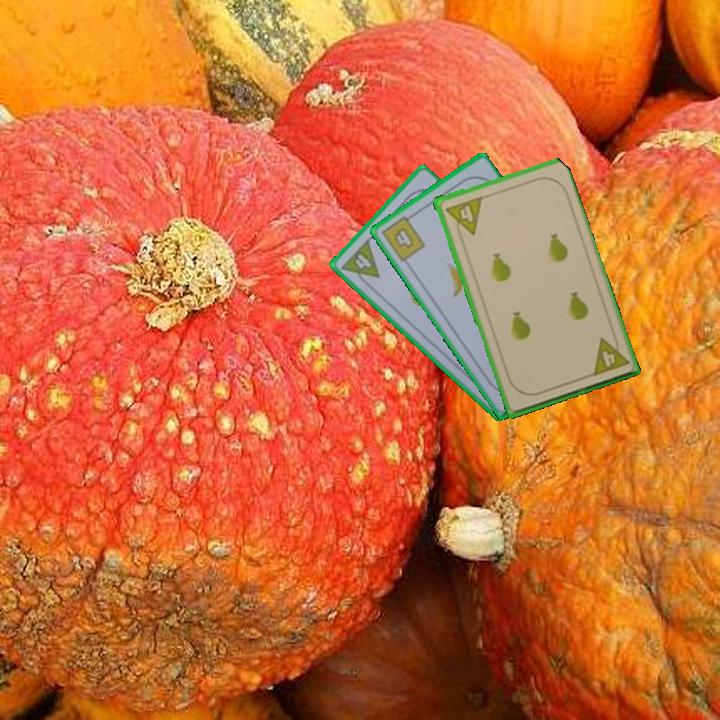4b: (378, 210, 428, 265)
4p: (338, 236, 382, 291), (589, 330, 632, 379), (441, 193, 484, 241)
